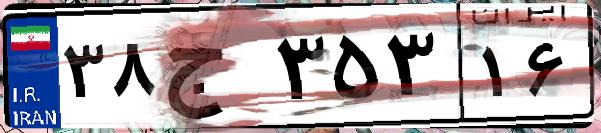1: (475, 38, 525, 113)
3: (270, 28, 330, 110), (385, 28, 445, 110), (57, 26, 110, 100)
5: (330, 28, 385, 110)
6: (525, 38, 570, 115)
8: (110, 28, 158, 98)
ج: (158, 20, 270, 120)
